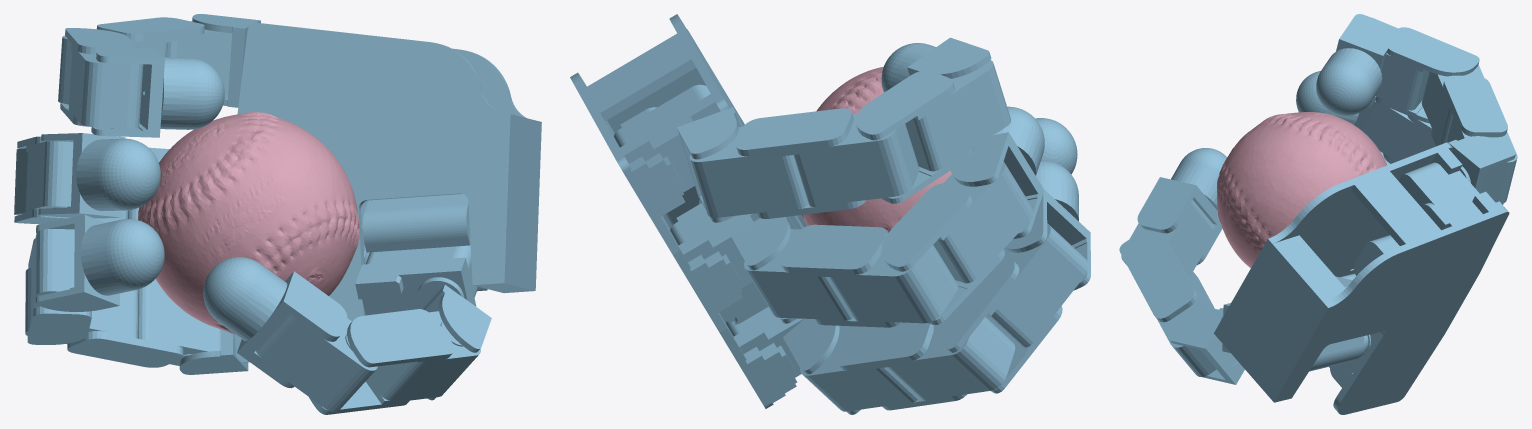
3 views of the same model, side by side, from view 1: azimuth 30°, elevation 25°; view 2: azimuth 150°, elevation 25°; view 3: azimuth 270°, elevation 25° (orthographic). The views are drawn at different scales.
Parts seen in each view (by area): view 1: world; view 2: world; view 3: world.
Boxes of the visible parts, <box> form: world: <box>14,14,541,414</box>; world: <box>570,14,1090,414</box>; world: <box>1119,14,1517,414</box>.
Size of the model in its own units: 0.1939 by 0.1397 by 0.1628.
